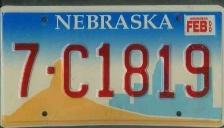1: (156, 42, 177, 103), (95, 41, 116, 100)
7: (12, 39, 40, 103)
8: (121, 41, 153, 100)
9: (182, 42, 215, 100)
C: (61, 42, 93, 100)
